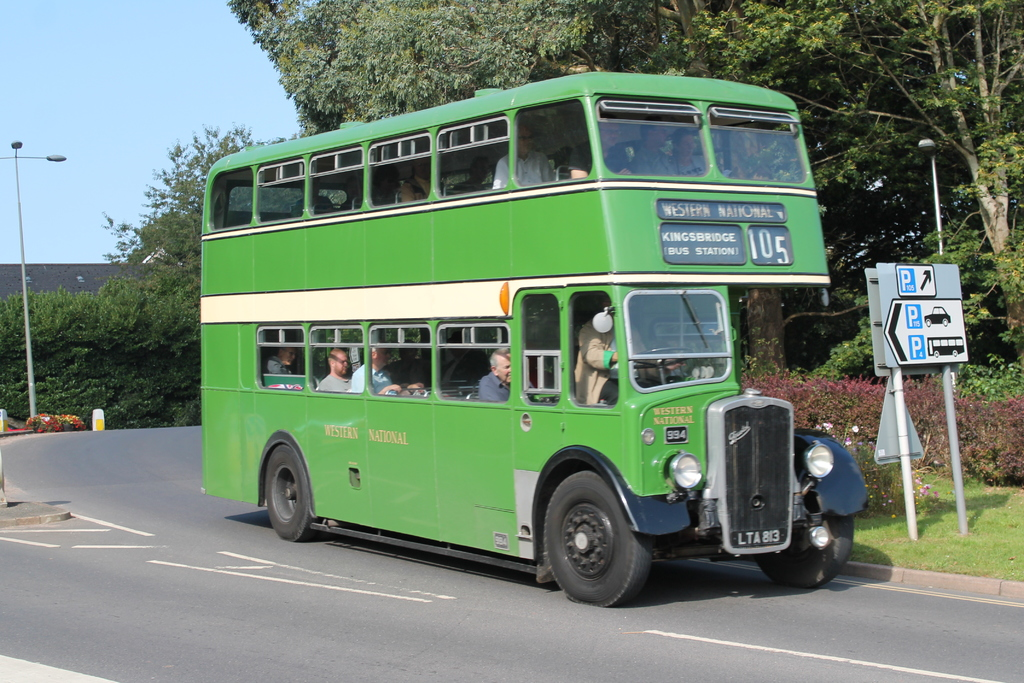Bus: (200, 71, 862, 606)
